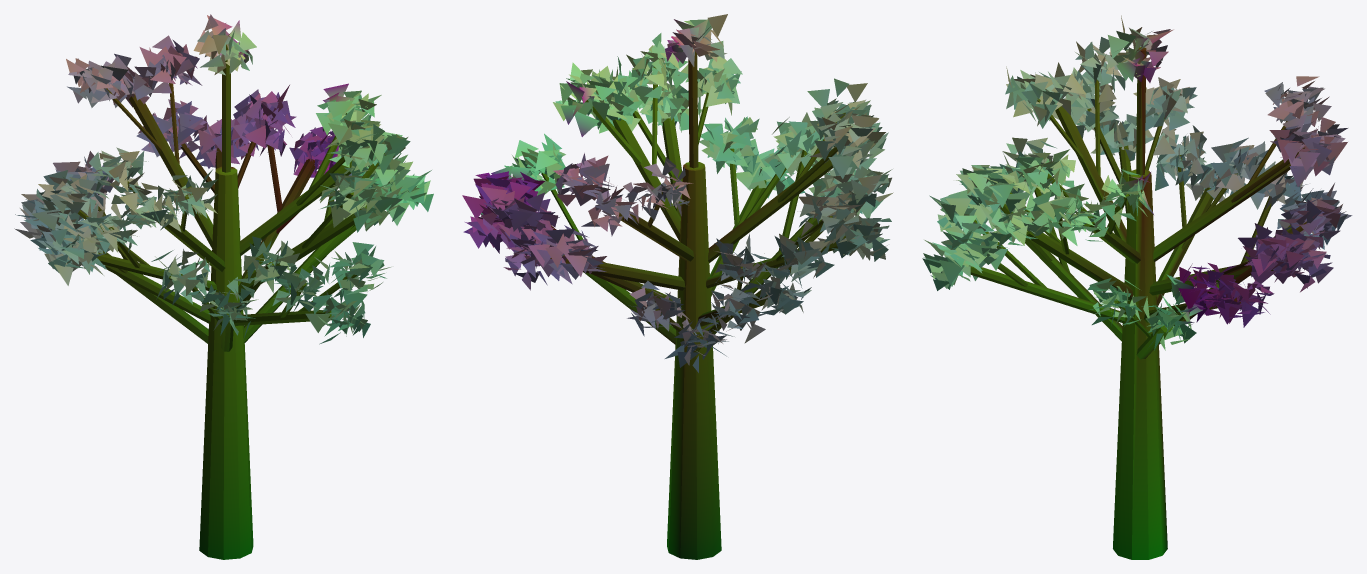
The model's file is ecological_broadleaf_mature_02.glb.
3 renders of one model, left to right at view 1: azimuth 30°, elevation 25°; view 2: azimuth 150°, elevation 25°; view 3: azimuth 270°, elevation 25°, orthographic.
Visible parts, largest first — view 1: ecological_broadleaf_mature_02; view 2: ecological_broadleaf_mature_02; view 3: ecological_broadleaf_mature_02.
Boxes of the visible parts, x1,y1,x2,y2 form: ecological_broadleaf_mature_02: (14, 14, 433, 559); ecological_broadleaf_mature_02: (462, 14, 893, 559); ecological_broadleaf_mature_02: (922, 15, 1352, 559).
Bounding box in the file's own units: 19.46 × 25.59 × 19.06.
